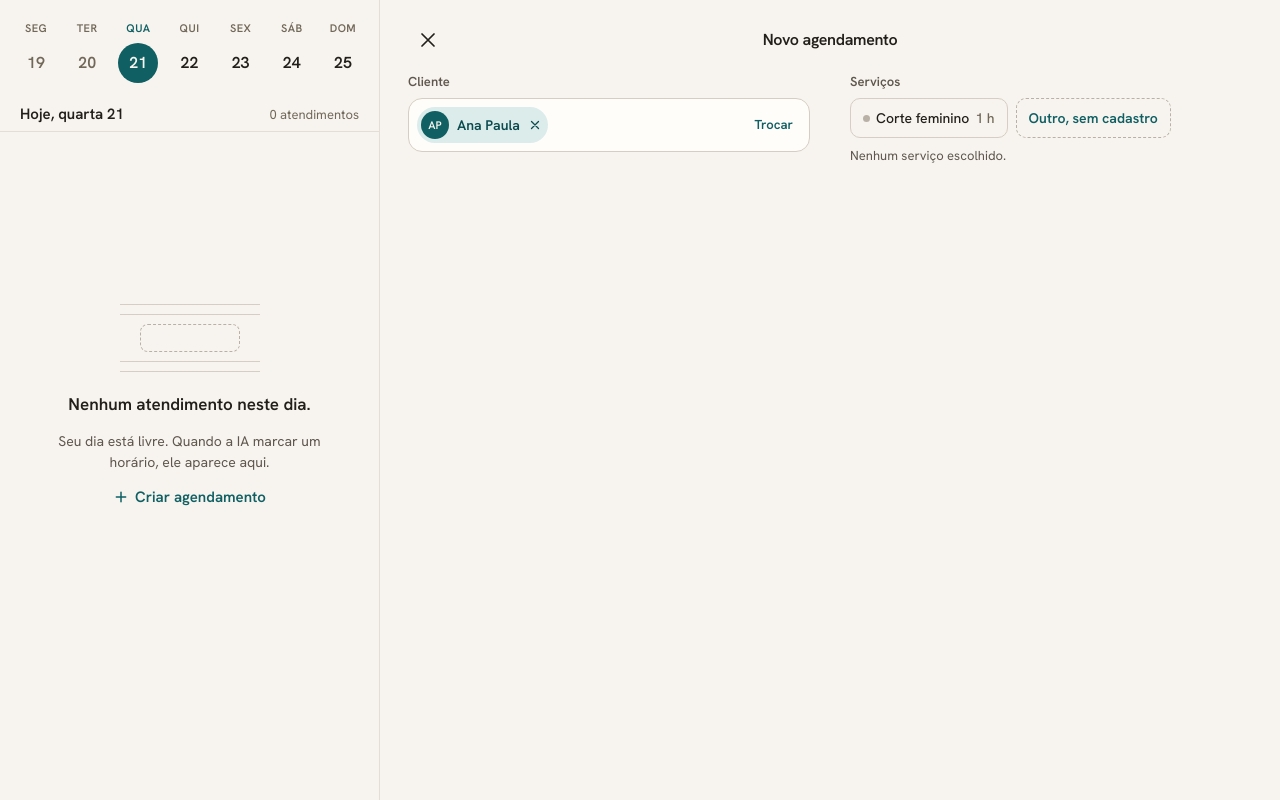
Test: criação: o envelope real chega às telas já aceitas › a perda do hold na criação volta à escolha do horário e a mensagem segue slotStillAvailable true
The image size is (1280, 800).
Click the checkbox labelled "Corte feminino 1 h" at (929, 118), box [850, 98, 1008, 138]
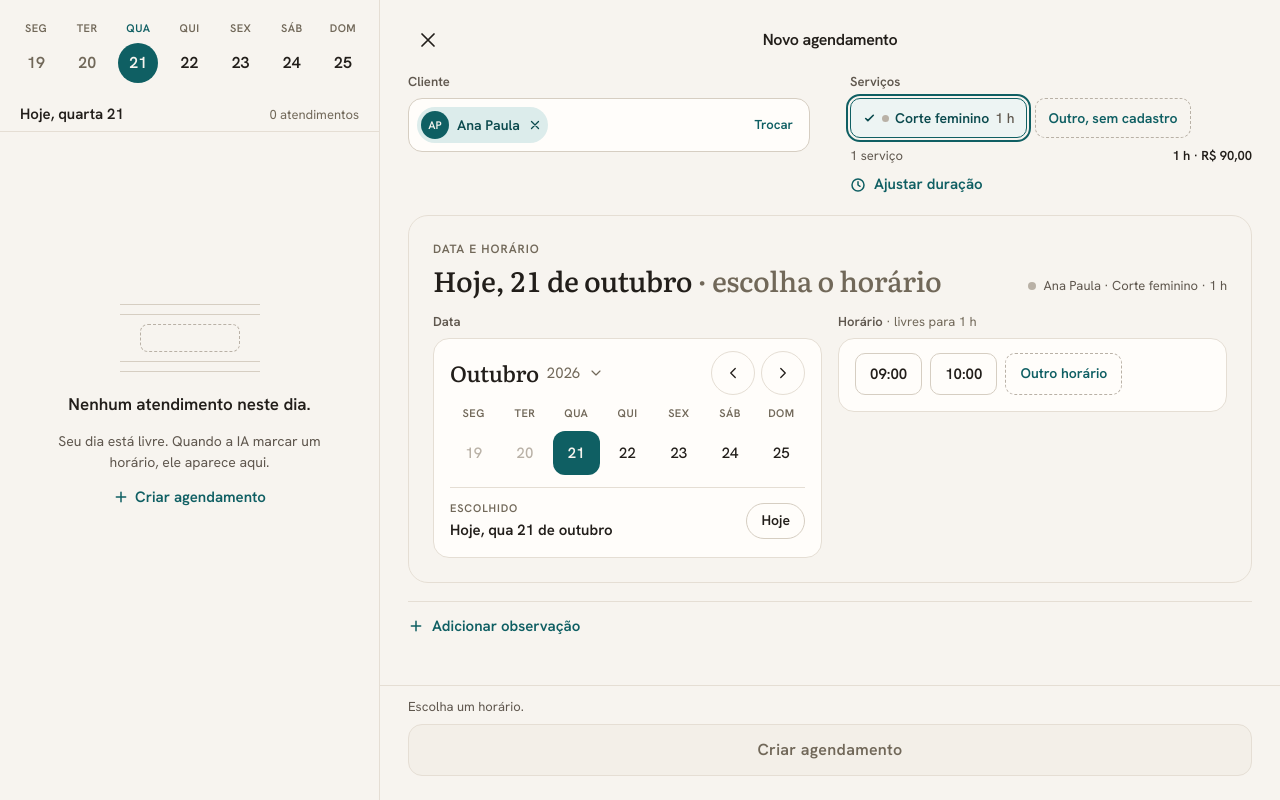
Now the radio button labelled "09:00" is shown
Click the radio button labelled "09:00" at (889, 374), box [855, 353, 922, 395]
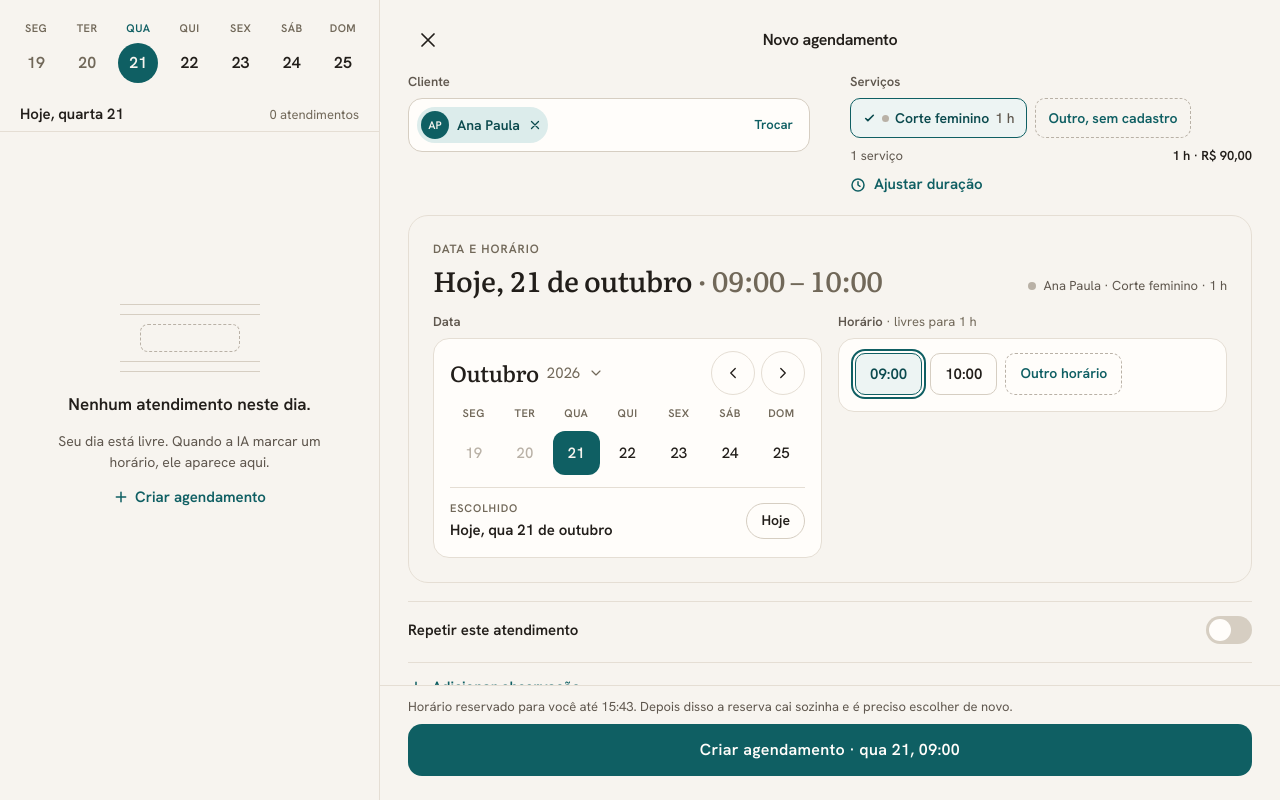
Click the button "Criar agendamento · qua 21, 09:00" at (830, 750), box [408, 724, 1252, 776]
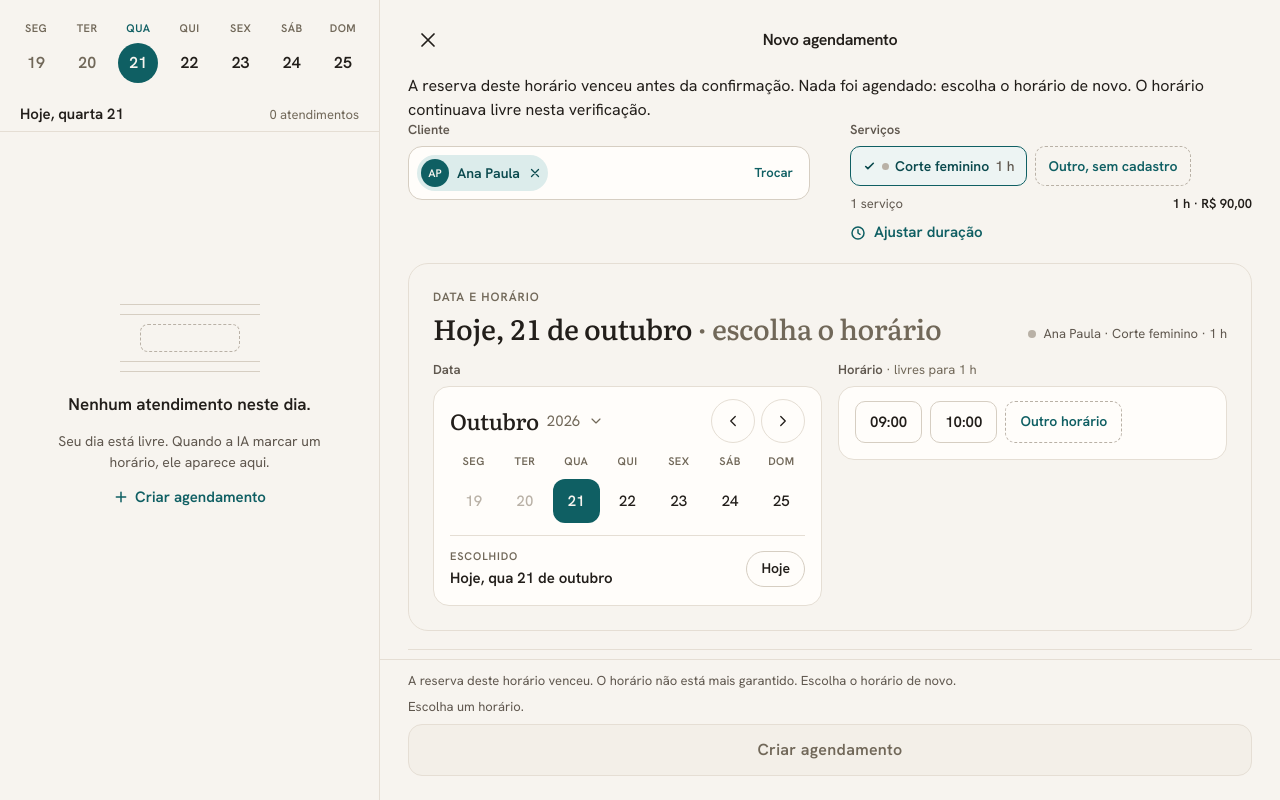
Now the radio button labelled "09:00" is not checked, box [855, 401, 922, 443]
Now the 1st message shows "A reserva deste horário venceu antes da confirmação. Nada foi agendado: escolha o horário de novo.", box [408, 75, 1204, 120]
Now the 1st message shows "O horário continuava livre nesta verificação.", box [408, 75, 1204, 120]
